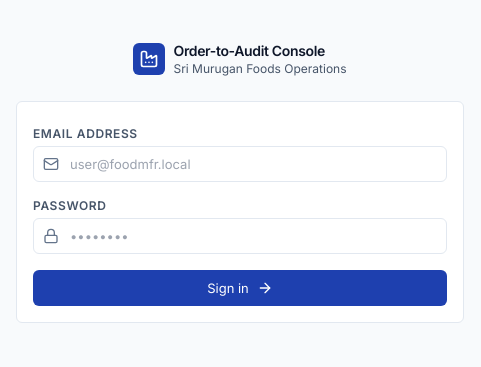
Test: AuthProvider backend authentication › does not create a session when the backend rejects login
Type "owner@foodmfr.local" into the field with placeholder "user@foodmfr.local" at (240, 164), box x1=33 y1=146 x2=447 y2=182
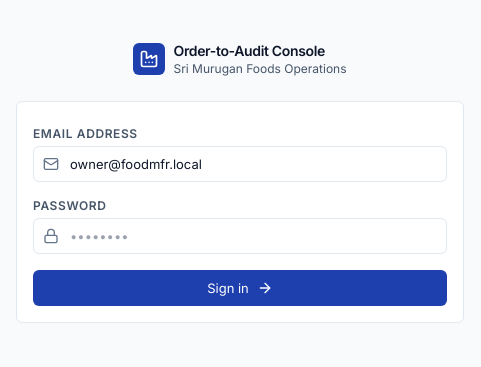
Type "wrong-password" into the password field with placeholder "••••••••" at (240, 236), box x1=33 y1=218 x2=447 y2=254
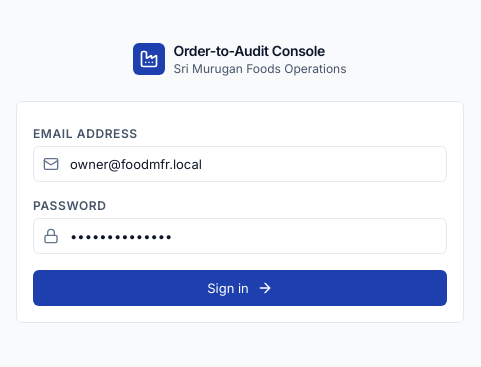
Click the button "Sign in" at (240, 288), box x1=33 y1=270 x2=447 y2=306
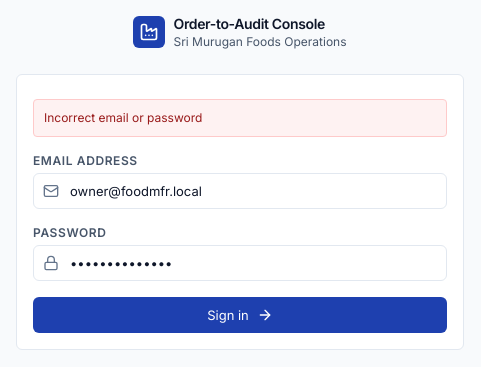
Now the text "Incorrect email or password" is shown, box x1=33 y1=99 x2=447 y2=137
